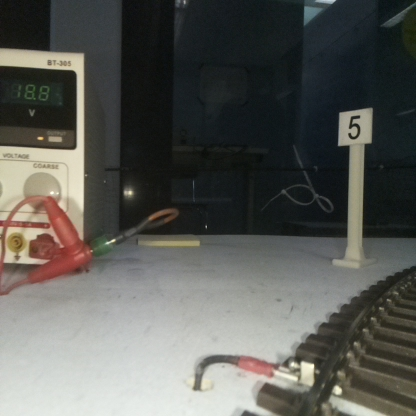white-info-5: (338, 107, 372, 263)
